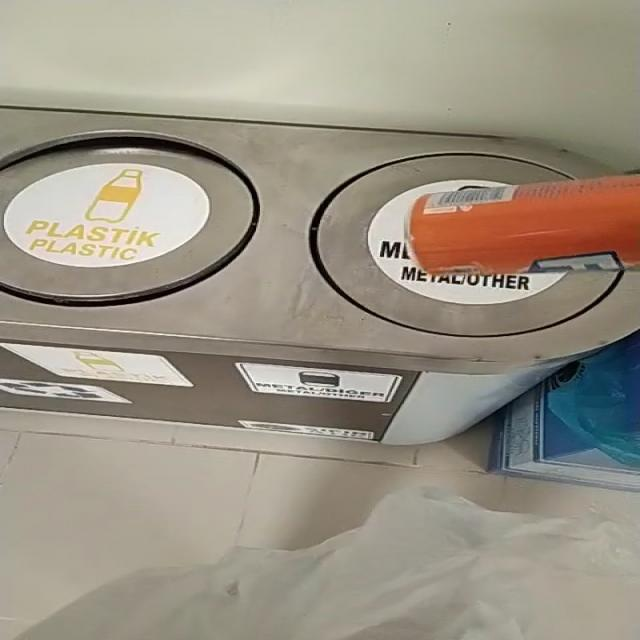Bin: (0, 108, 640, 445)
Metal: (411, 176, 640, 274)
